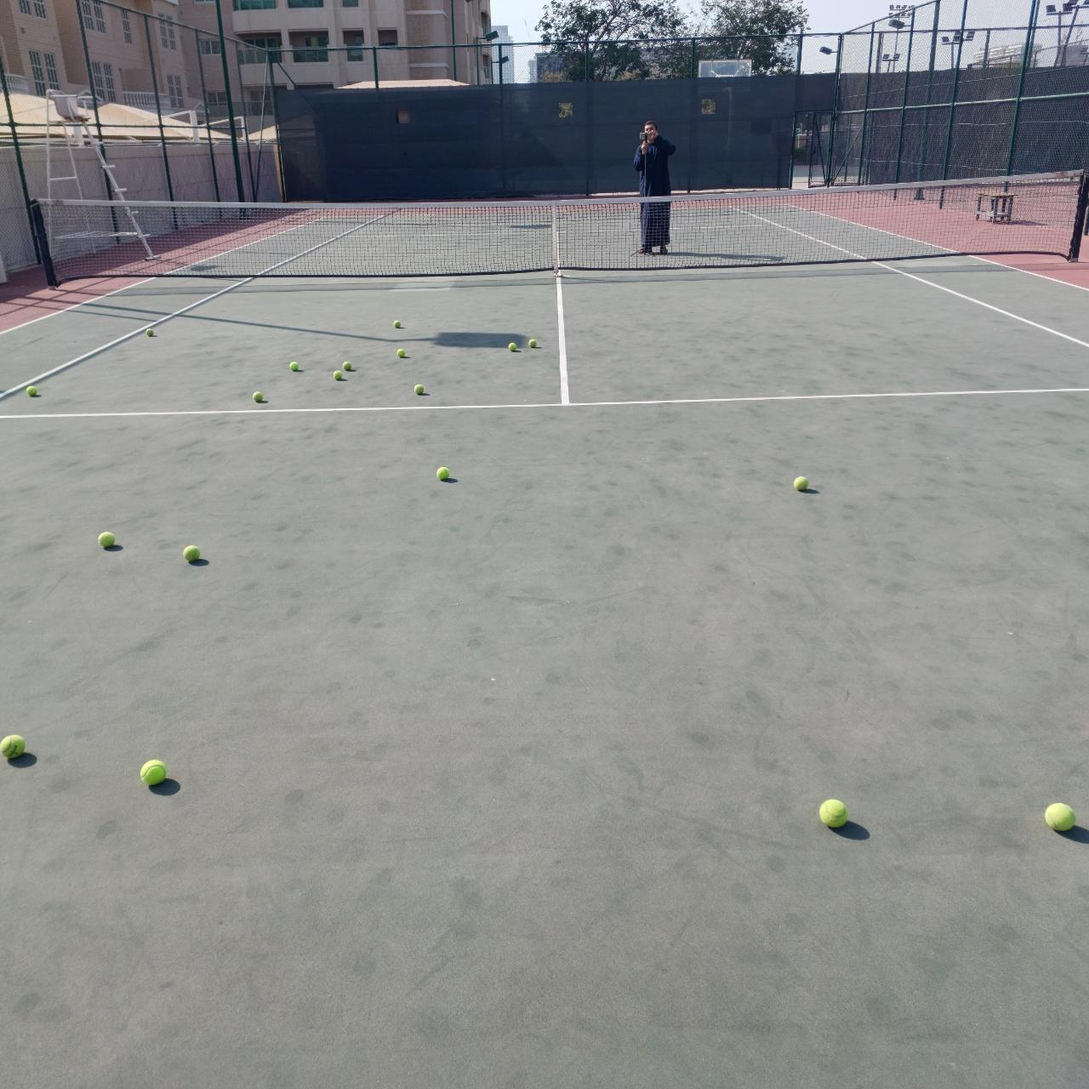tennis-ball: (1043, 800, 1075, 832), (818, 796, 847, 828), (139, 756, 168, 786), (0, 732, 26, 759), (98, 531, 115, 548), (183, 545, 201, 561), (791, 474, 807, 491), (436, 466, 450, 480), (26, 386, 37, 397), (414, 384, 424, 395), (253, 392, 263, 402), (507, 342, 517, 351), (333, 370, 342, 380), (290, 361, 299, 371), (343, 362, 352, 371), (529, 339, 537, 348), (397, 349, 405, 358), (146, 328, 154, 336), (393, 321, 401, 328)
